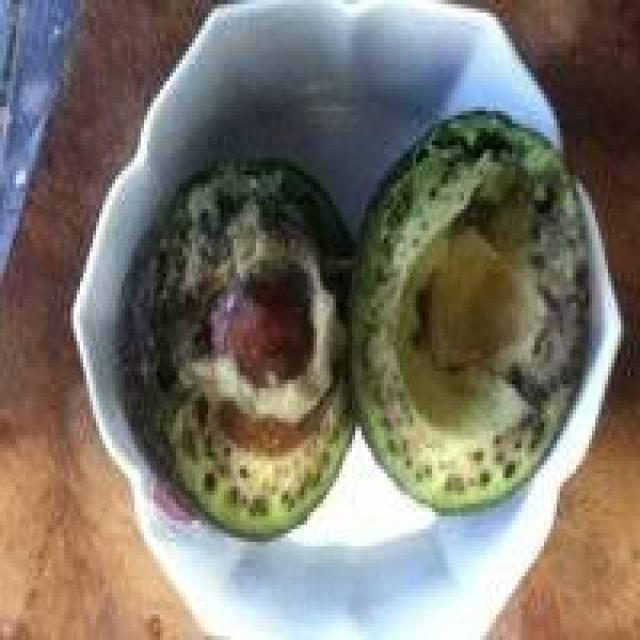organic waste: (342, 106, 592, 508), (109, 149, 352, 542), (202, 252, 307, 380)
